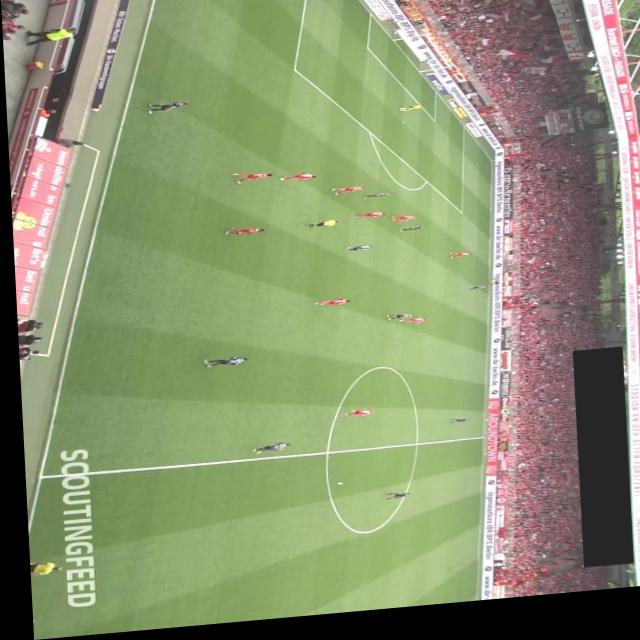goalkeeper: (396, 112, 424, 120)
player: (198, 359, 245, 372), (229, 175, 271, 189), (23, 561, 56, 577), (146, 103, 186, 116), (247, 446, 285, 459), (221, 230, 261, 242), (277, 177, 314, 188), (328, 191, 362, 202), (310, 303, 347, 313), (351, 217, 383, 227), (340, 415, 368, 424), (394, 324, 423, 332), (378, 498, 403, 507), (381, 320, 409, 328), (341, 251, 369, 259), (387, 222, 413, 230), (395, 233, 423, 240), (445, 259, 467, 267), (360, 199, 388, 205), (443, 425, 464, 432), (463, 294, 481, 300)
referee: (301, 225, 337, 236), (481, 288, 504, 295)
